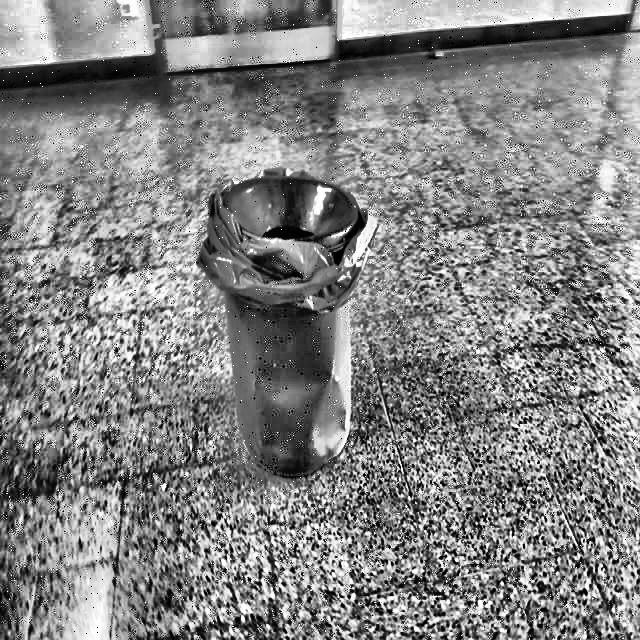Dustbin: (162, 121, 388, 536)
